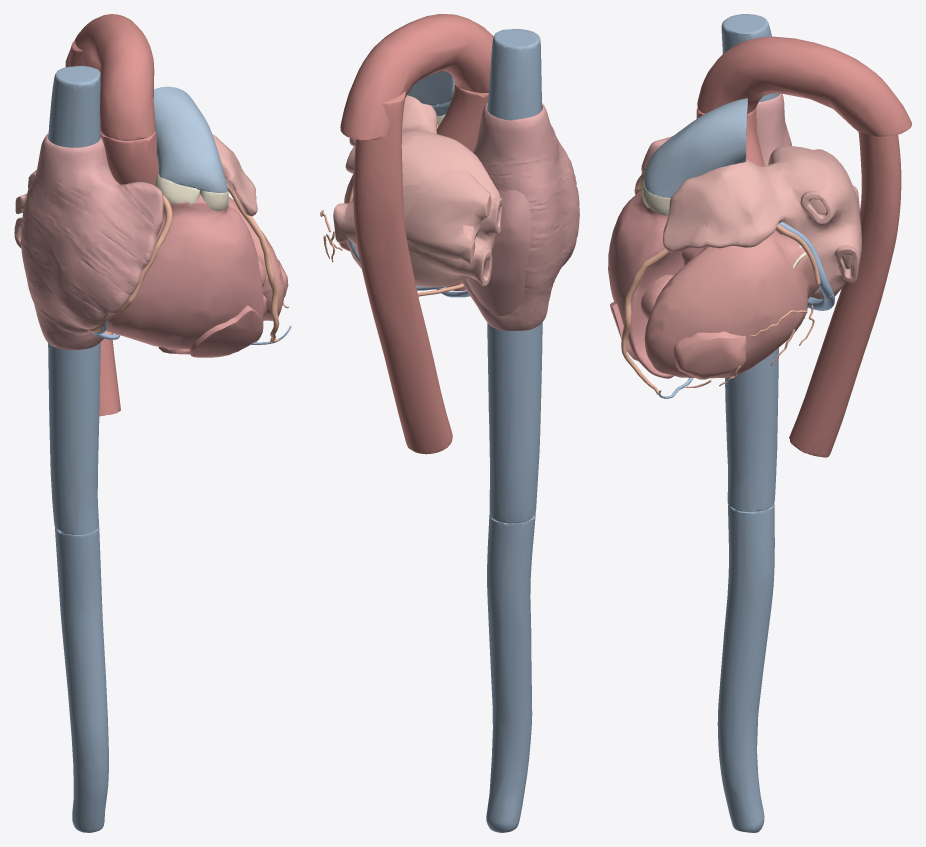
Rendered from heart.v1.glb.
3 views of the same model, side by side, from view 1: azimuth 30°, elevation 25°; view 2: azimuth 150°, elevation 25°; view 3: azimuth 270°, elevation 25° (orthographic). The views are drawn at different scales.
Parts seen in each view (by area): view 1: right_atrium, inferior_vena_cava, right_ventricle, aorta, pulmonary_trunk, superior_vena_cava, coronary_arteries, left_atrium, left_ventricle, pulmonary_valve; view 2: aorta, inferior_vena_cava, right_atrium, left_atrium, superior_vena_cava, pulmonary_trunk, coronary_arteries; view 3: aorta, inferior_vena_cava, left_ventricle, left_atrium, right_ventricle, pulmonary_trunk, coronary_arteries, right_atrium, superior_vena_cava, cardiac_veins.
Part boxes in pixels (x1,y1,x2,y2): right_atrium: [20, 133, 163, 349]; inferior_vena_cava: [48, 342, 108, 832]; right_ventricle: [106, 194, 263, 357]; aorta: [65, 14, 158, 416]; pulmonary_trunk: [153, 86, 227, 192]; superior_vena_cava: [48, 66, 100, 147]; coronary_arteries: [88, 184, 289, 343]; left_atrium: [14, 134, 257, 247]; left_ventricle: [228, 196, 288, 320]; pulmonary_valve: [155, 174, 228, 210]; aorta: [340, 14, 493, 454]; inferior_vena_cava: [486, 323, 542, 832]; right_atrium: [462, 102, 579, 330]; left_atrium: [333, 95, 502, 287]; superior_vena_cava: [487, 29, 541, 120]; pulmonary_trunk: [407, 70, 455, 116]; coronary_arteries: [320, 124, 464, 296]; aorta: [696, 36, 911, 457]; inferior_vena_cava: [717, 348, 778, 832]; left_ventricle: [641, 230, 819, 379]; left_atrium: [663, 146, 861, 299]; right_ventricle: [608, 190, 703, 378]; pulmonary_trunk: [644, 98, 747, 197]; coronary_arteries: [621, 170, 820, 394]; right_atrium: [634, 94, 791, 192]; superior_vena_cava: [721, 14, 779, 101]; cardiac_veins: [658, 222, 834, 398].
Bounding box in the file's own units: 0.1131 × 0.3662 × 0.1236.
